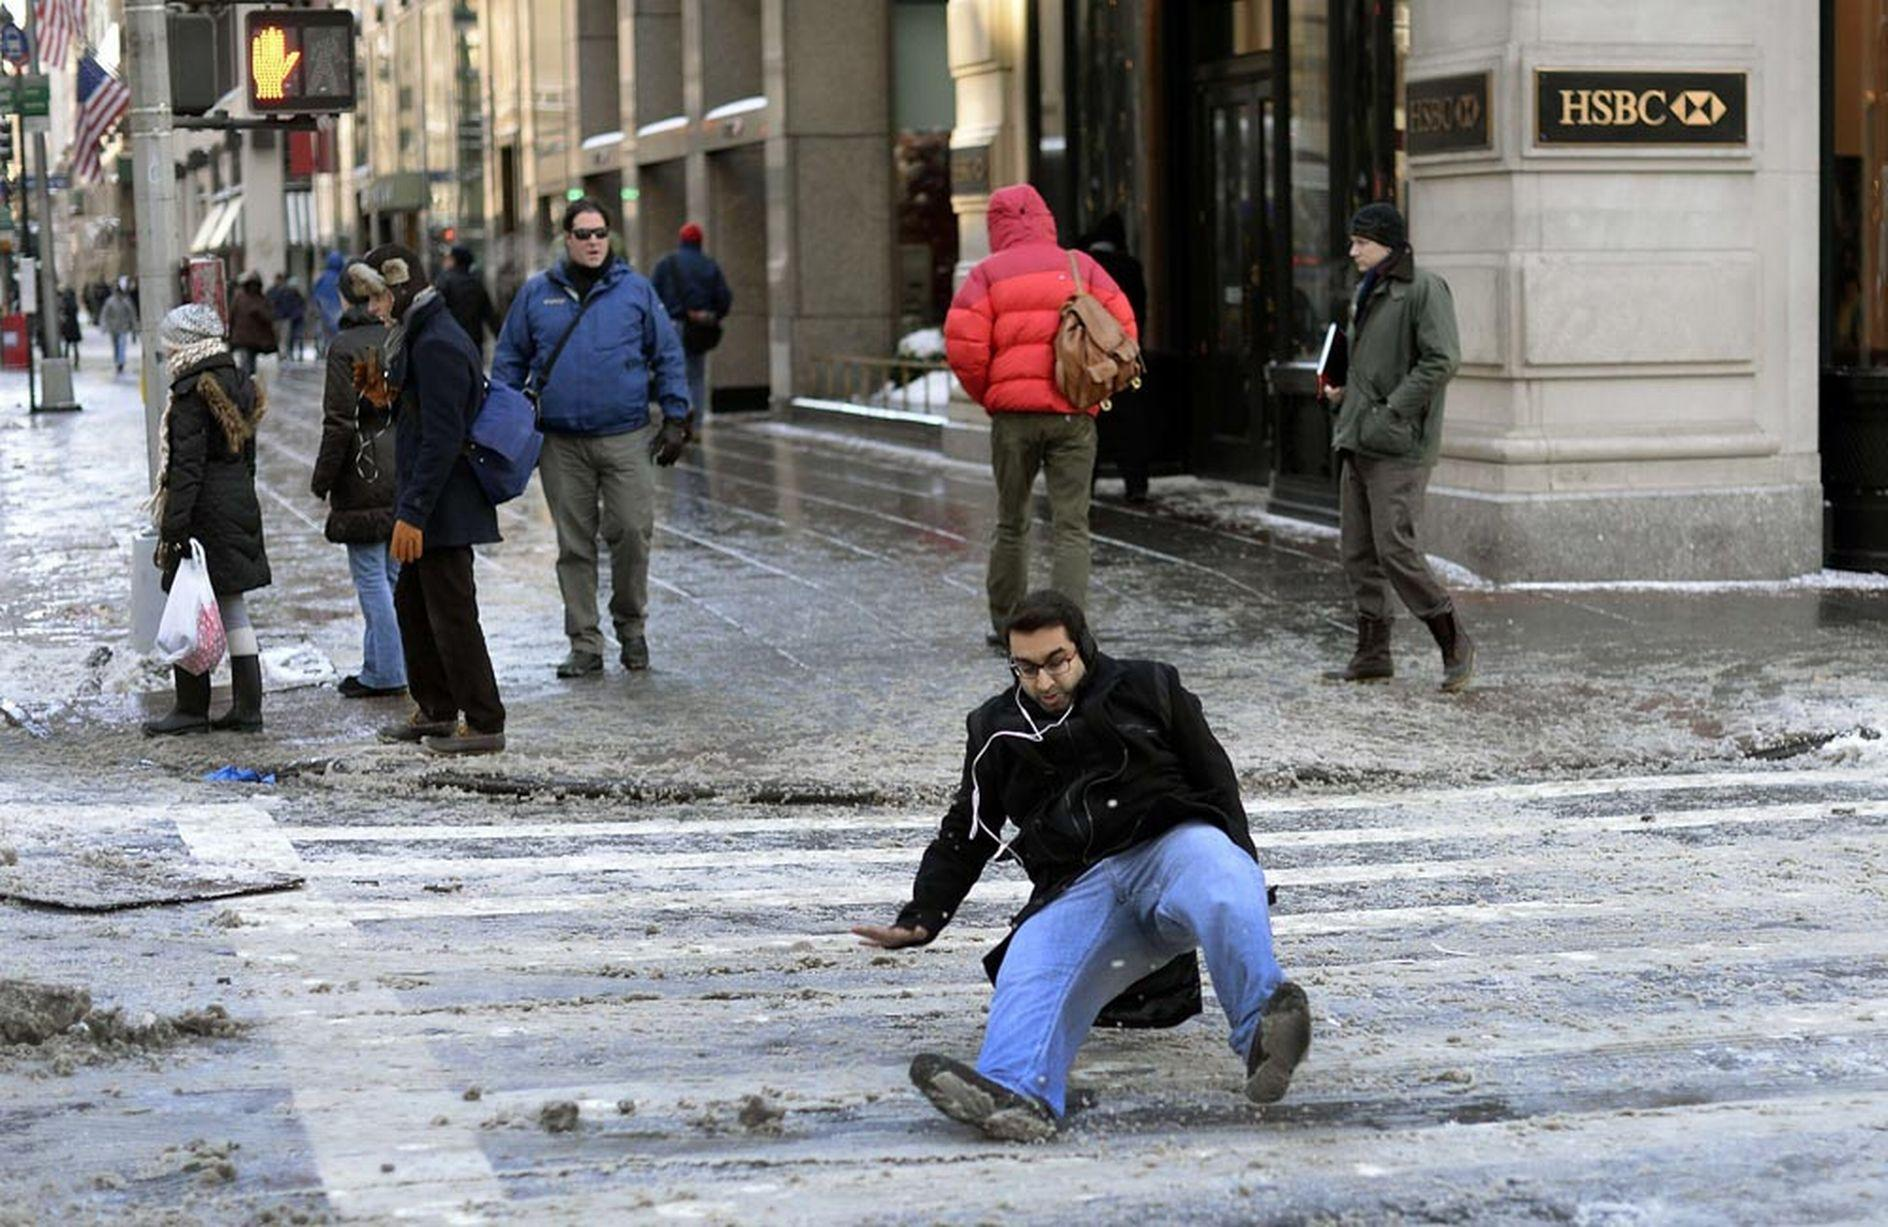down: (855, 585, 1325, 1128)
up: (483, 201, 717, 695), (343, 232, 550, 783), (943, 172, 1150, 649), (1311, 204, 1483, 729), (118, 294, 292, 754), (293, 259, 429, 708), (648, 217, 755, 466)
